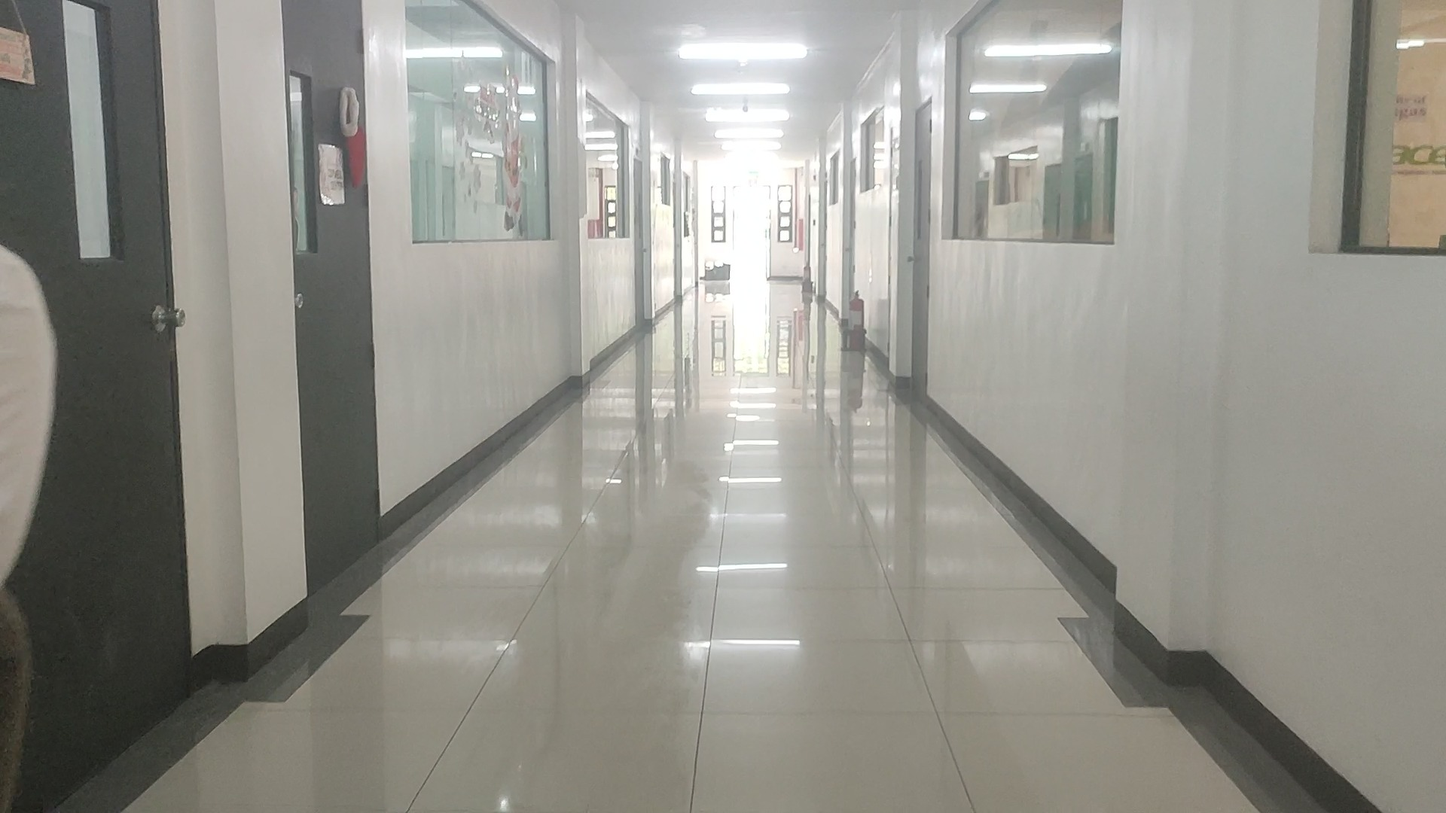door: (0, 0, 203, 794), (279, 0, 379, 594)
